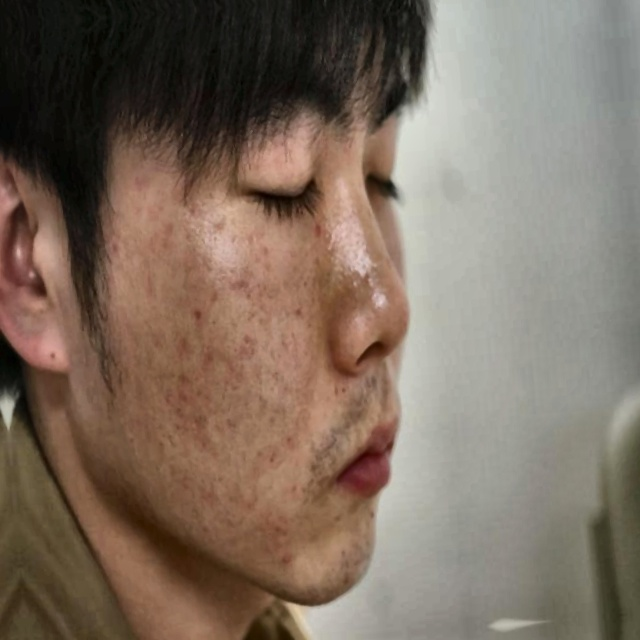comedone: (269, 545, 297, 568)
